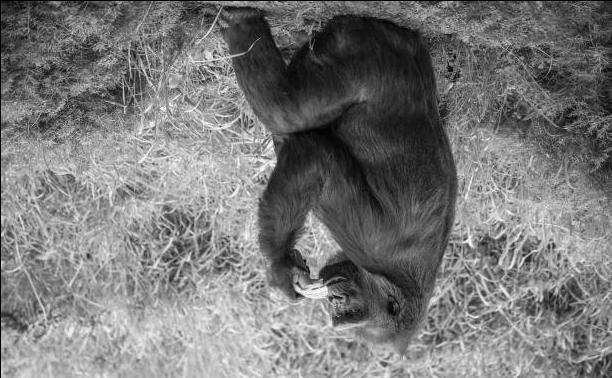gorille_Autres: (188, 0, 458, 363)
